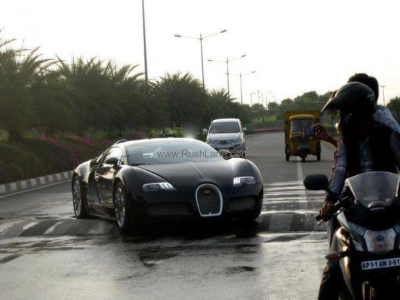licence: (361, 258, 399, 271)
